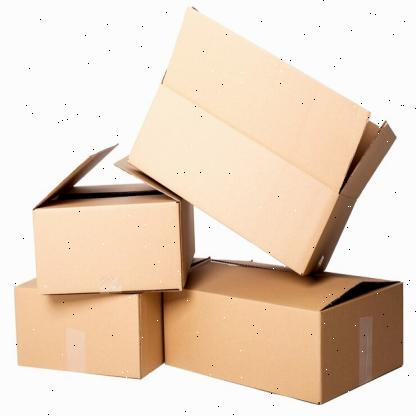box: (163, 288, 322, 403), (35, 204, 181, 294), (14, 281, 140, 382)
